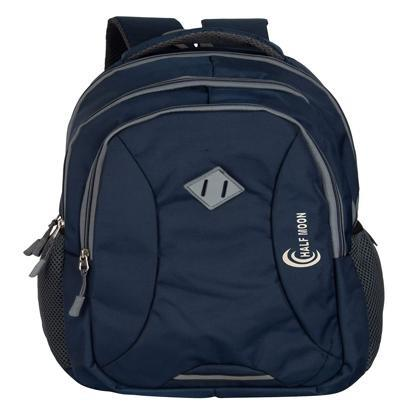not trash: (39, 14, 386, 396)
